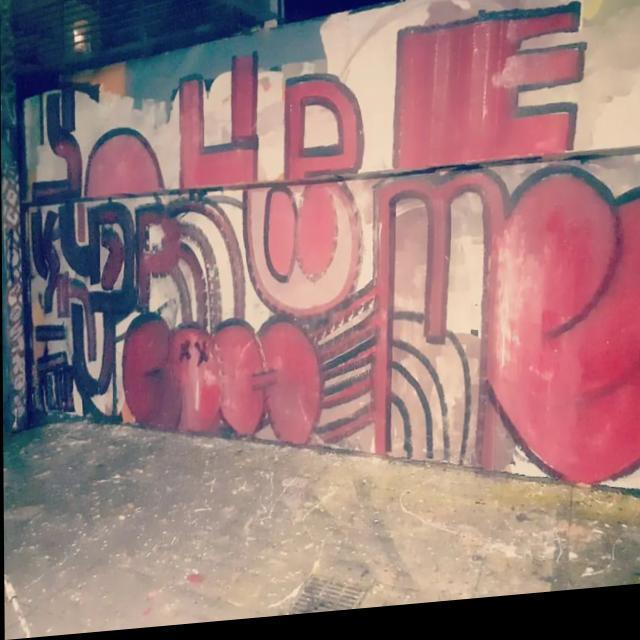nonspitting: (34, 4, 640, 488)
